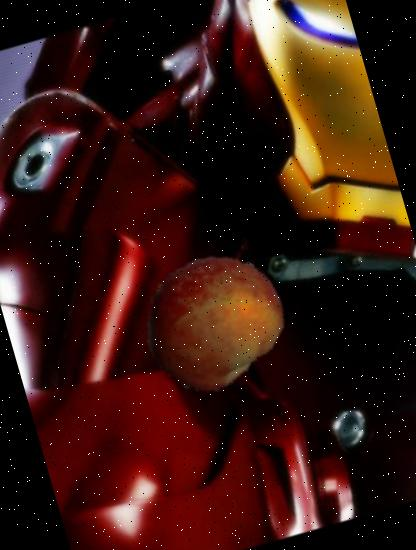Nectarine: (124, 234, 298, 409)
